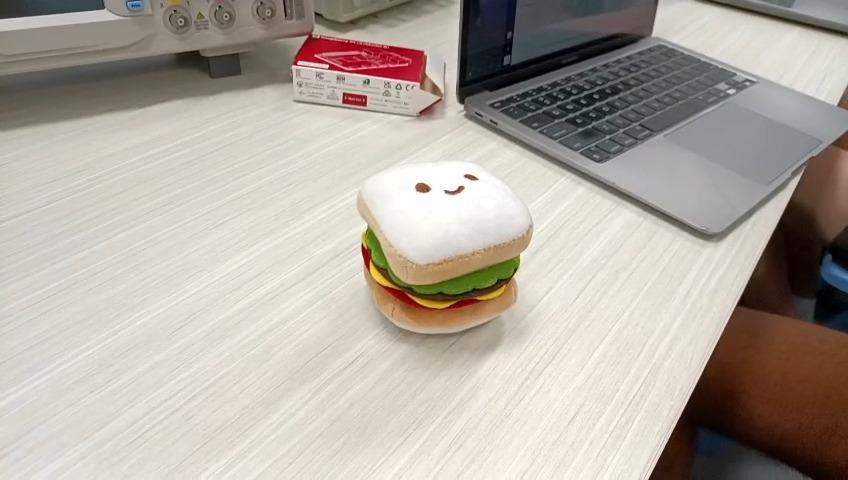objects: (358, 154, 538, 342)
